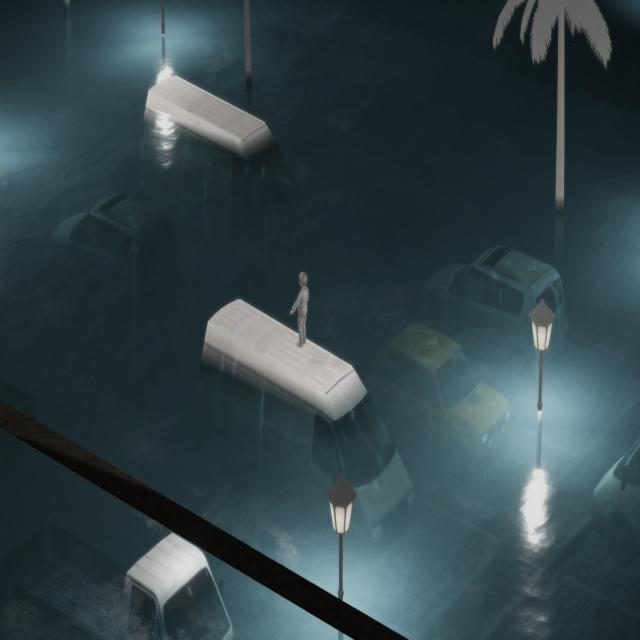Human: (287, 265, 314, 357)
